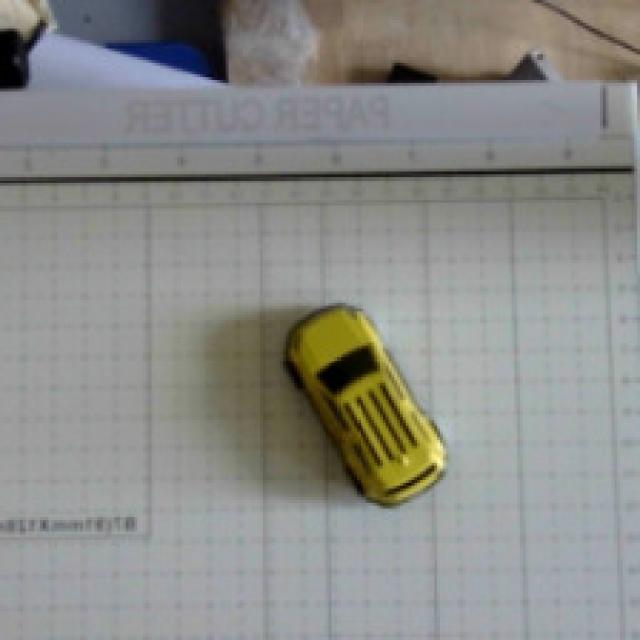Yellow Car: (238, 257, 491, 535)
